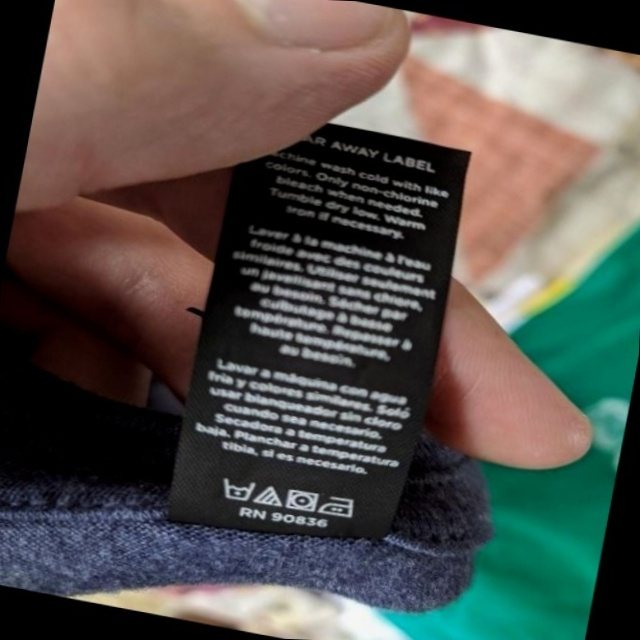30C: (221, 473, 257, 505)
iron_medium: (319, 493, 361, 524)
non_chlorine_bleach: (254, 483, 287, 511)
tumble_dry_low: (284, 487, 324, 518)
